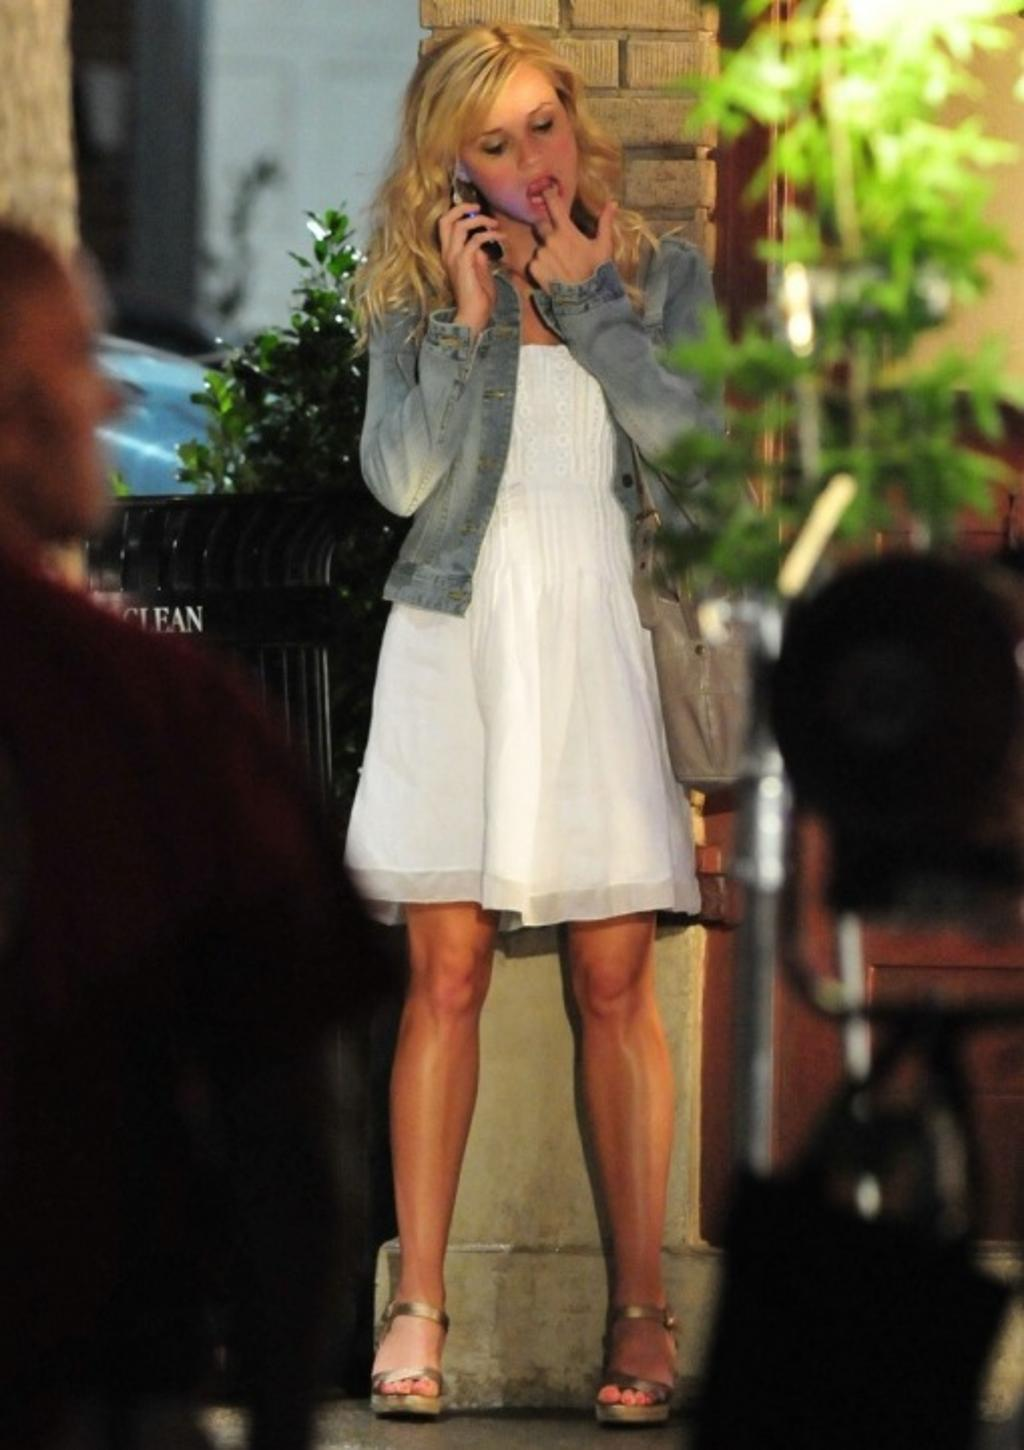face: (467, 57, 580, 230)
